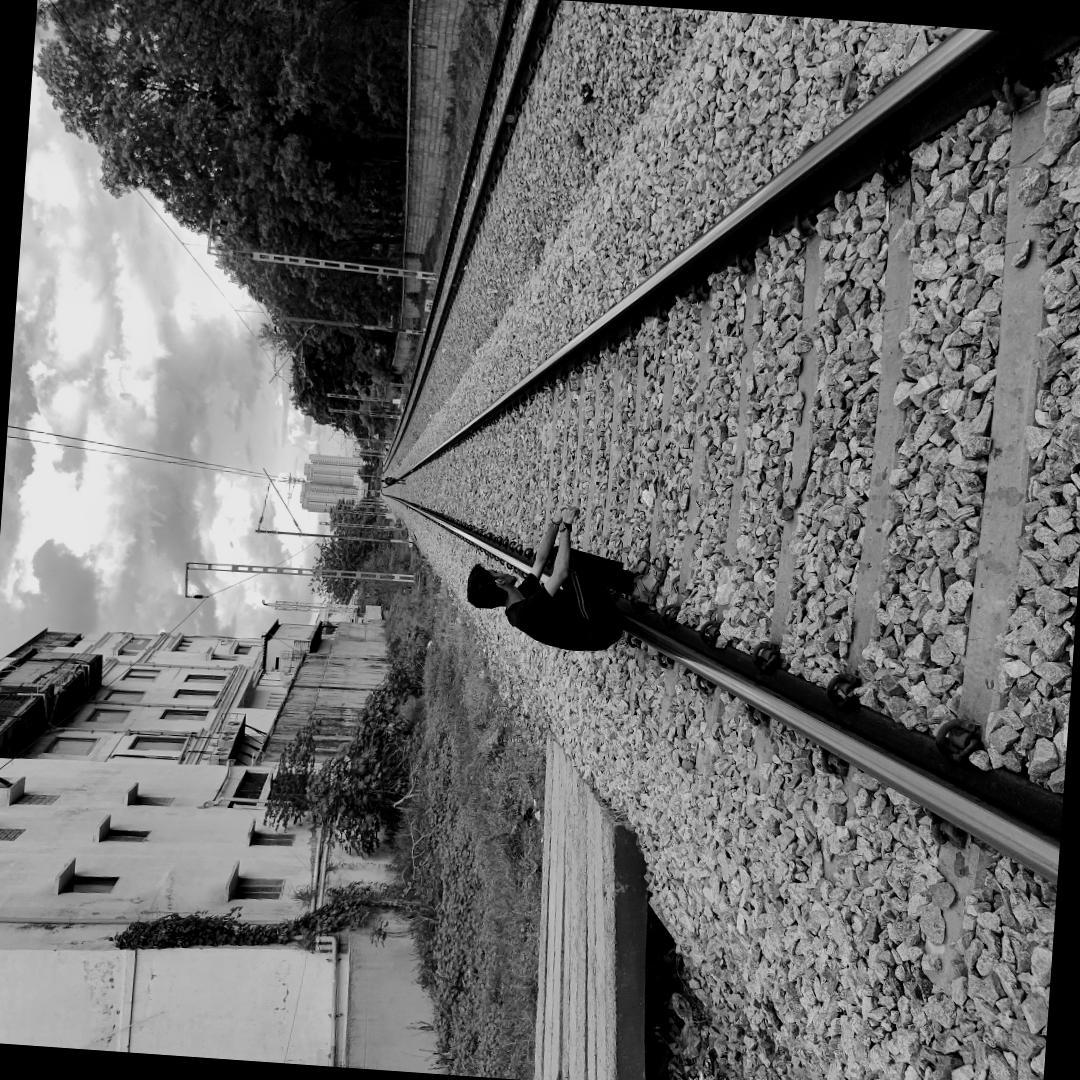sitting: (458, 497, 663, 667)
